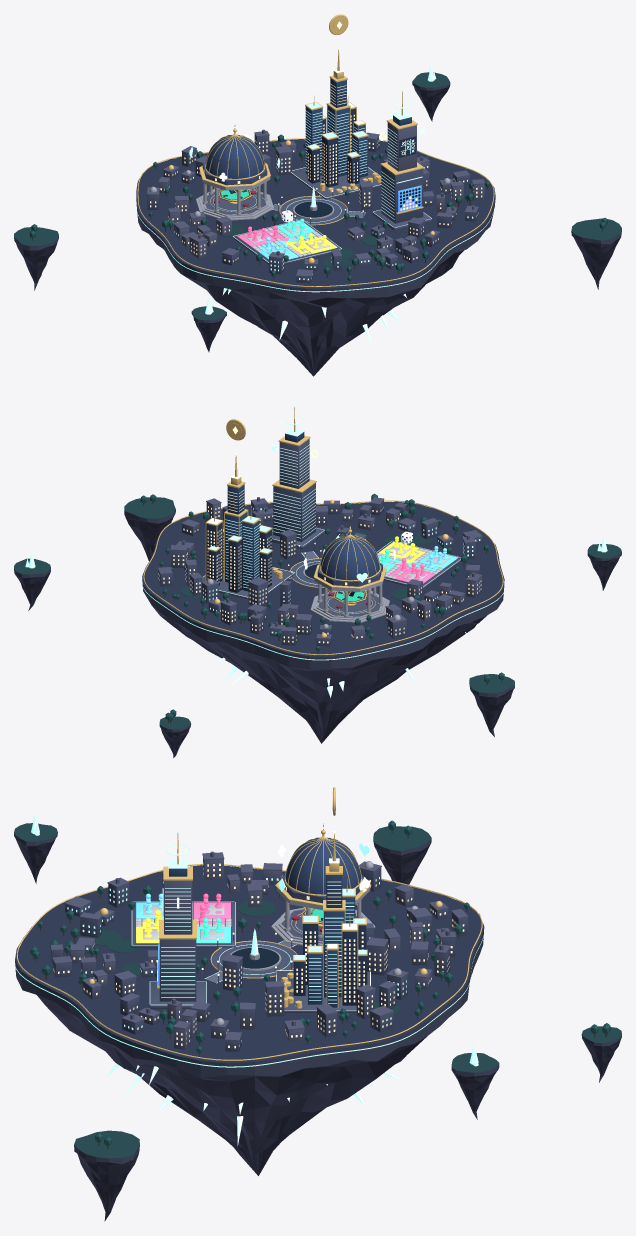
File: city.glb
3 views of the same model, one above another, from view 1: azimuth 30°, elevation 25°; view 2: azimuth 150°, elevation 25°; view 3: azimuth 270°, elevation 25° (orthographic). The views are drawn at different scales.
Visible parts, largest first — view 1: island_rock, city, tharwa_body, cards_body, arcade_body, ludo_body, FLOAT_3, FLOAT_1, FLOAT_2, FLOAT_4; view 2: island_rock, city, tharwa_body, cards_body, arcade_body, ludo_body, FLOAT_3, FLOAT_1, FLOAT_2, FLOAT_4, FLOAT_5; view 3: island_rock, city, tharwa_body, arcade_body, cards_body, ludo_body, FLOAT_3, FLOAT_1, FLOAT_2, FLOAT_4, FLOAT_5.
Part boxes in pixels (x1=…): island_rock: x1=135, y1=138, x2=496, y2=376; city: x1=147, y1=129, x2=489, y2=283; tharwa_body: x1=290, y1=47, x2=381, y2=199; cards_body: x1=196, y1=124, x2=273, y2=220; arcade_body: x1=372, y1=89, x2=431, y2=230; ludo_body: x1=232, y1=218, x2=342, y2=264; FLOAT_3: x1=571, y1=218, x2=621, y2=289; FLOAT_1: x1=14, y1=224, x2=58, y2=290; FLOAT_2: x1=412, y1=65, x2=450, y2=121; FLOAT_4: x1=191, y1=298, x2=226, y2=352; island_rock: x1=141, y1=500, x2=505, y2=743; city: x1=158, y1=493, x2=488, y2=653; tharwa_body: x1=202, y1=453, x2=294, y2=599; cards_body: x1=310, y1=524, x2=389, y2=622; arcade_body: x1=272, y1=405, x2=324, y2=549; ludo_body: x1=376, y1=536, x2=460, y2=588; FLOAT_3: x1=124, y1=494, x2=175, y2=560; FLOAT_1: x1=469, y1=672, x2=514, y2=736; FLOAT_2: x1=14, y1=552, x2=50, y2=610; FLOAT_4: x1=587, y1=536, x2=621, y2=590; FLOAT_5: x1=159, y1=709, x2=191, y2=757; island_rock: x1=14, y1=863, x2=484, y2=1175; city: x1=30, y1=851, x2=469, y2=1056; tharwa_body: x1=276, y1=830, x2=370, y2=1012; arcade_body: x1=149, y1=831, x2=206, y2=1008; cards_body: x1=271, y1=823, x2=375, y2=945; ludo_body: x1=131, y1=893, x2=235, y2=947; FLOAT_3: x1=74, y1=1130, x2=139, y2=1221; FLOAT_1: x1=373, y1=820, x2=431, y2=885; FLOAT_2: x1=451, y1=1043, x2=499, y2=1119; FLOAT_4: x1=14, y1=812, x2=57, y2=883; FLOAT_5: x1=581, y1=1023, x2=621, y2=1082.
Bounding box in the file's own units: 79.67 × 50.98 × 66.53.
48 materials, 4 textured.
